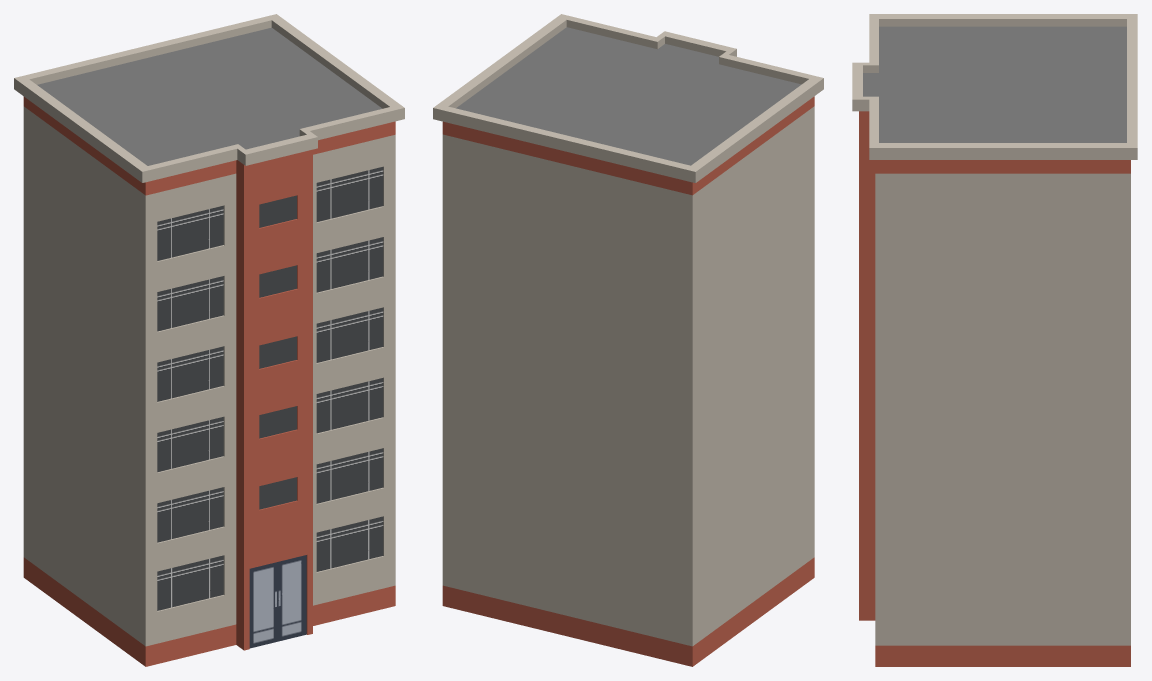
Rendered from building-sky-big-color02.glb.
3 views of the same model, side by side, from view 1: azimuth 30°, elevation 25°; view 2: azimuth 150°, elevation 25°; view 3: azimuth 270°, elevation 25° (orthographic). The views are drawn at different scales.
Visible parts, largest first — view 1: model; view 2: model; view 3: model.
Boxes of the visible parts, bbox=[...] form: model: bbox=[14, 14, 404, 666]; model: bbox=[433, 14, 823, 666]; model: bbox=[852, 14, 1137, 666].
Bounding box in the file's own units: 13.66 × 24.8 × 12.3.
Materials: 1 (1 with a texture image).
